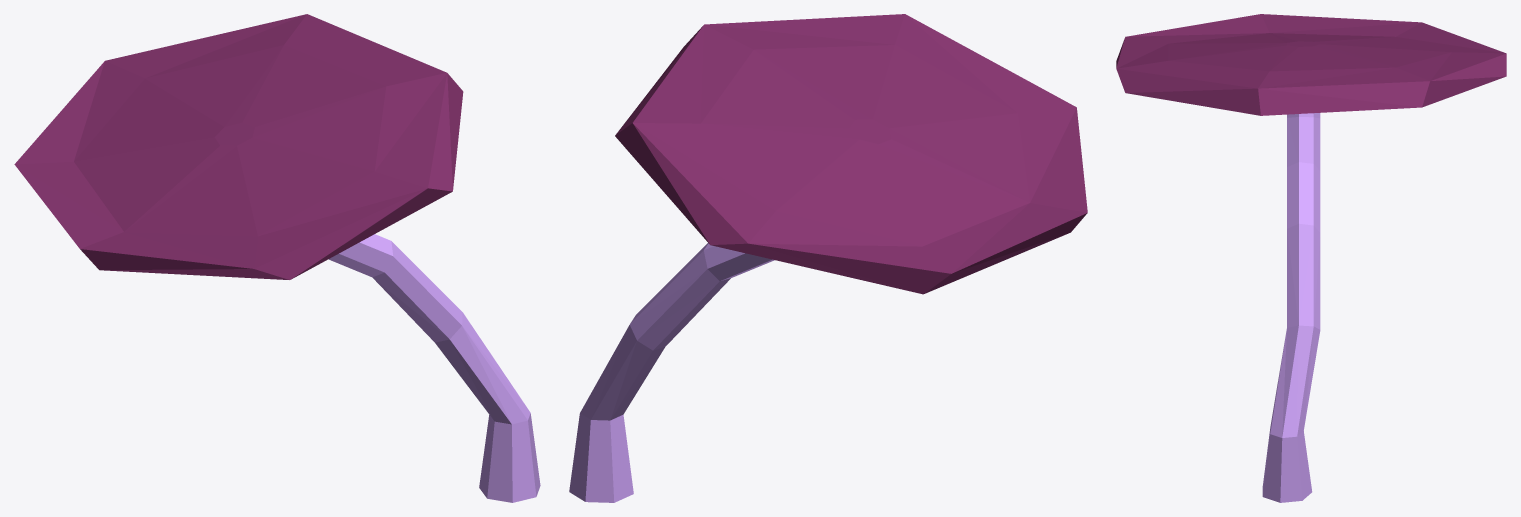
Rendered from Fungus1.fbx.
The picture shows the model from 3 angles, left to right: view 1: azimuth 30°, elevation 25°; view 2: azimuth 150°, elevation 25°; view 3: azimuth 270°, elevation 25°; orthographic projection. The views are drawn at different scales.
Visible parts, largest first — view 1: Cylinder; view 2: Cylinder; view 3: Cylinder.
Boxes of the visible parts, x1,y1,x2,y2 form: Cylinder: (14,14,540,502); Cylinder: (569,14,1087,502); Cylinder: (1116,14,1506,502).
Size of the model in its own units: 380 by 345 by 329.
